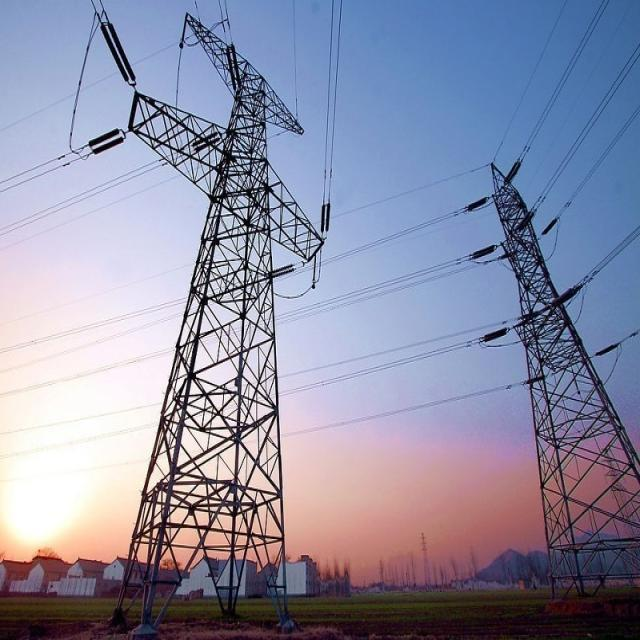non-critical vegetation: (114, 28, 328, 612), (476, 152, 636, 592)
